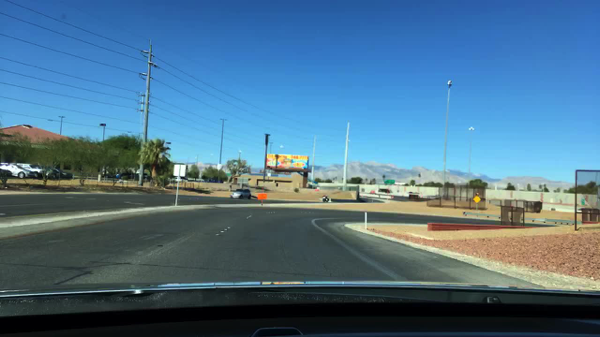car: (1, 162, 33, 179), (103, 168, 134, 180), (20, 164, 46, 176), (230, 188, 253, 199), (37, 166, 58, 178), (52, 169, 73, 179), (134, 174, 150, 180), (0, 167, 10, 176), (173, 176, 188, 181)
traffic sign: (173, 166, 186, 175), (385, 180, 394, 184)
